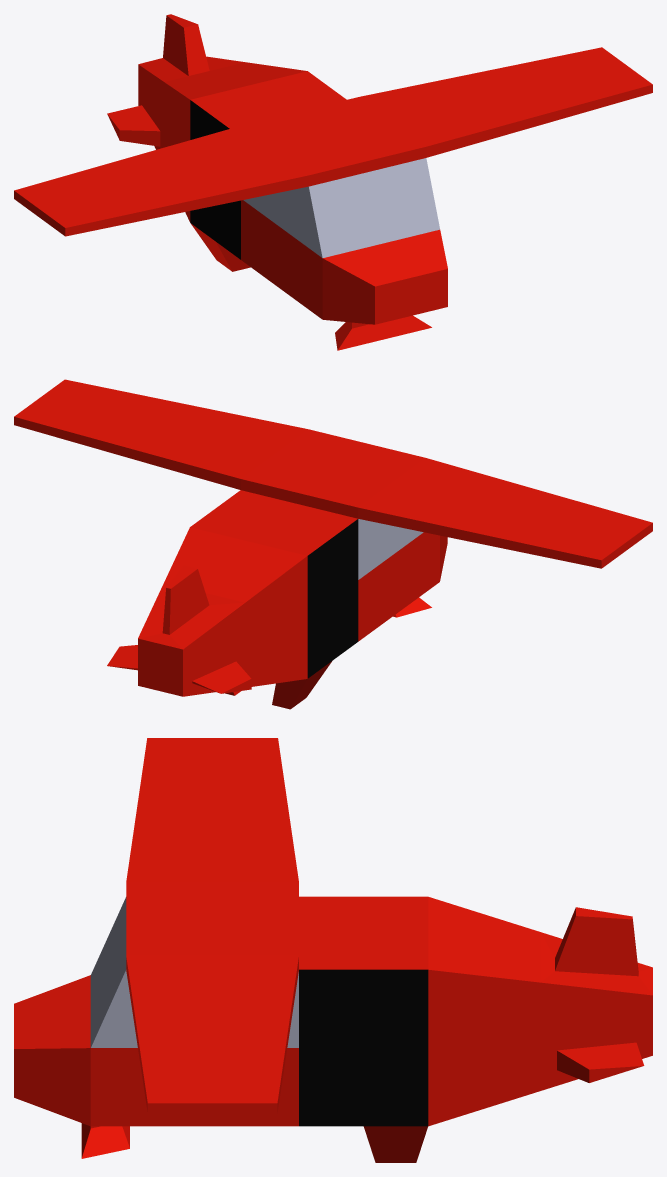
File: airplane.fbx
3 renders of one model, top to bottom at view 1: azimuth 30°, elevation 25°; view 2: azimuth 150°, elevation 25°; view 3: azimuth 270°, elevation 25°, orthographic. The views are drawn at different scales.
Visible parts, largest first — view 1: Cube; view 2: Cube; view 3: Cube.
Part boxes in pixels (x1=…): Cube: x1=14, y1=14, x2=652, y2=350; Cube: x1=14, y1=379, x2=652, y2=709; Cube: x1=14, y1=738, x2=652, y2=1162.
Size of the model in its own units: 1000 by 291 by 739.
